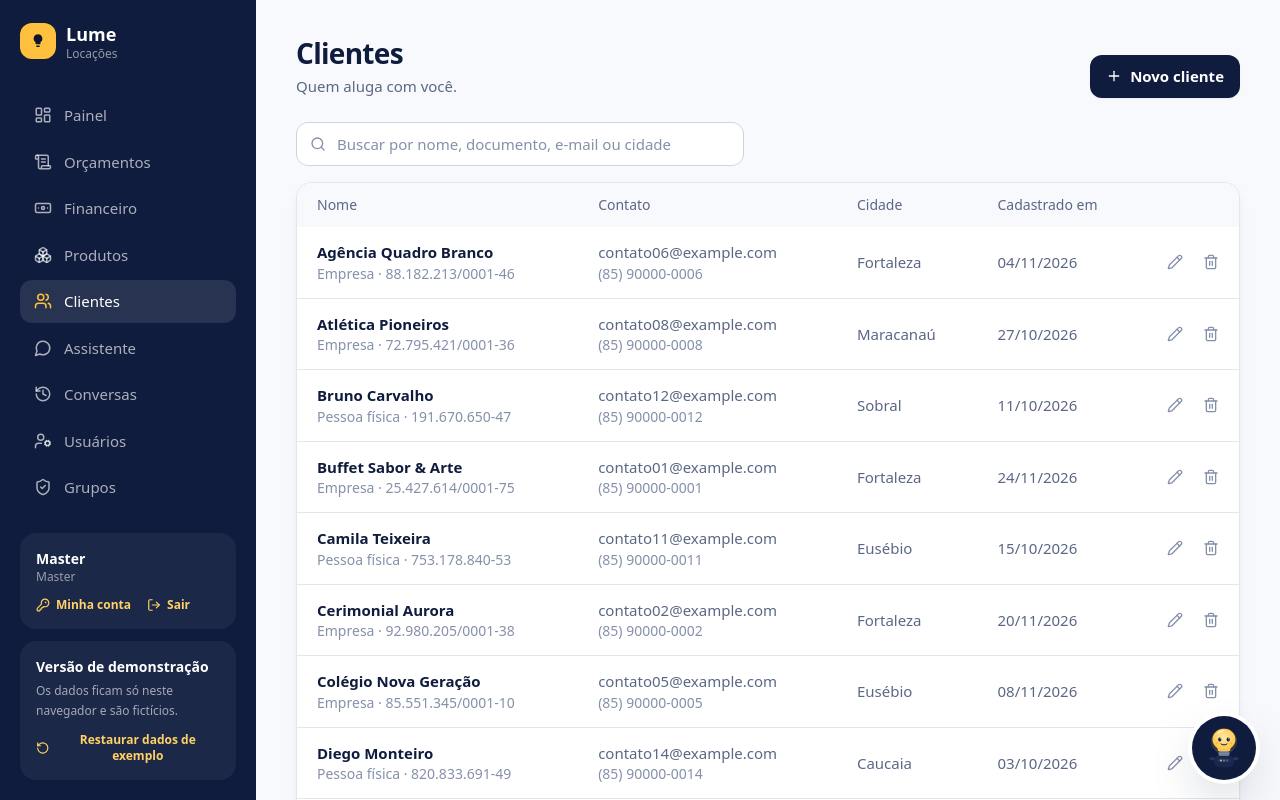
it: Clientes › não exclui cliente com orçamentos e explica por quê
What coordinates should you click on to do the following:
click the button named "Excluir Agência Quadro Branco"
I would click on:
 (1211, 262)
Its box is [1195,246,1227,278].
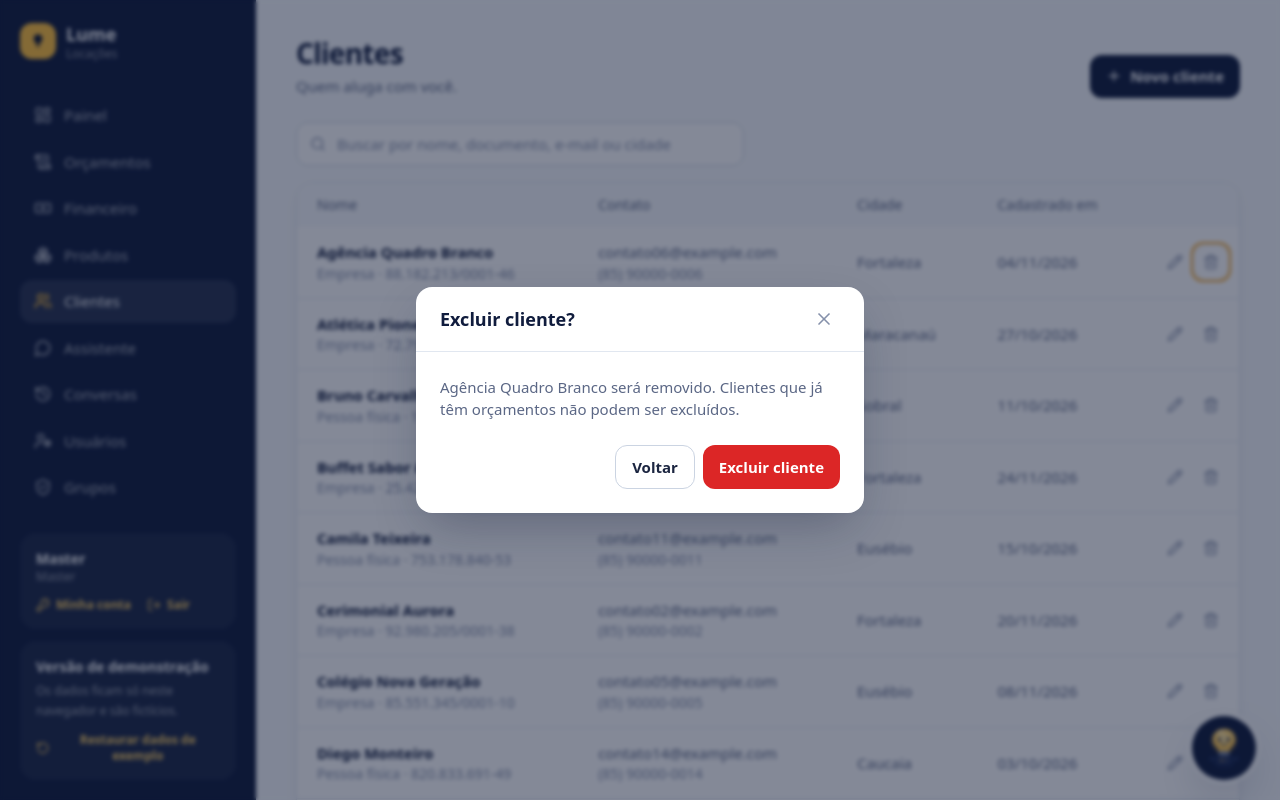
What coordinates should you click on to do the following:
click the button "Excluir cliente"
I would click on:
 (771, 467)
Its box is [703,445,840,489].
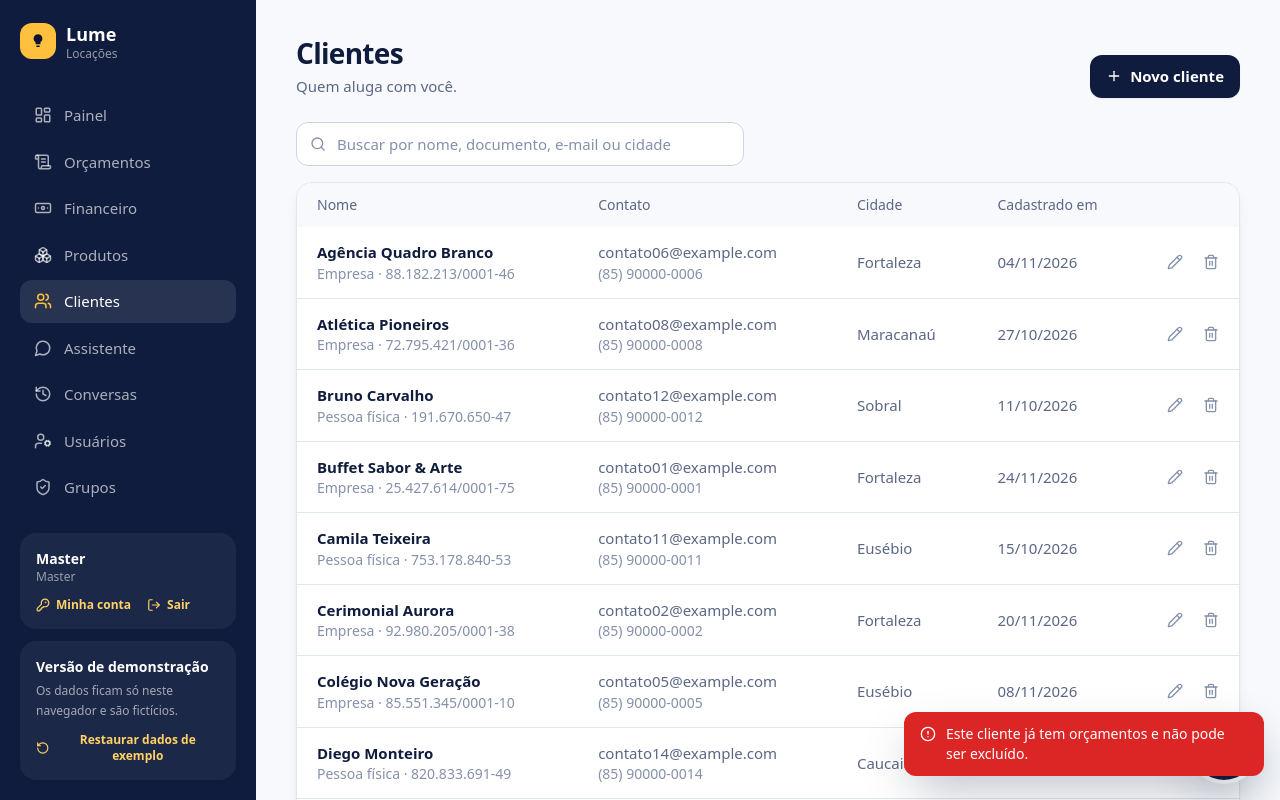
expect the text "Este cliente já tem orçamentos e não pode ser excluído." is shown: met, box [904,712,1264,776]
